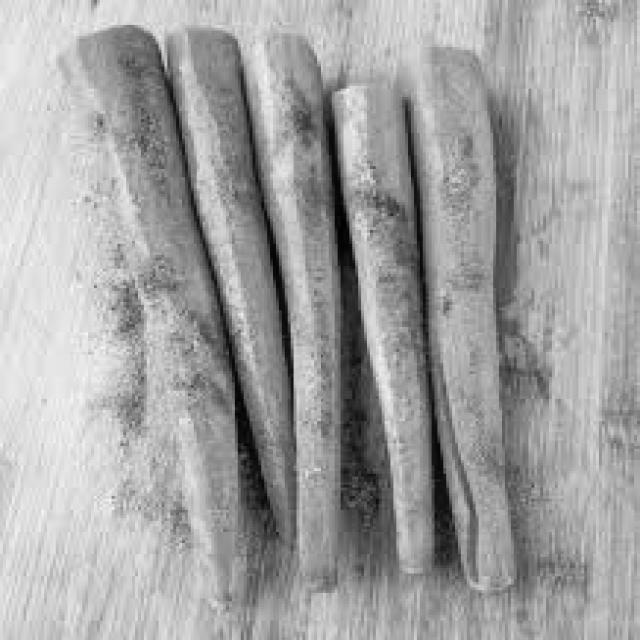Stale_Carrot: (54, 32, 241, 604), (145, 9, 294, 588), (399, 30, 520, 607), (317, 42, 420, 576), (248, 11, 336, 564)
